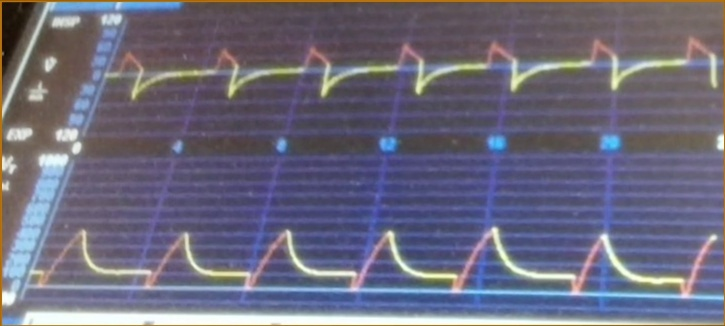Flow: (117, 23, 719, 127)
Leakage Volume: (54, 196, 717, 307)
